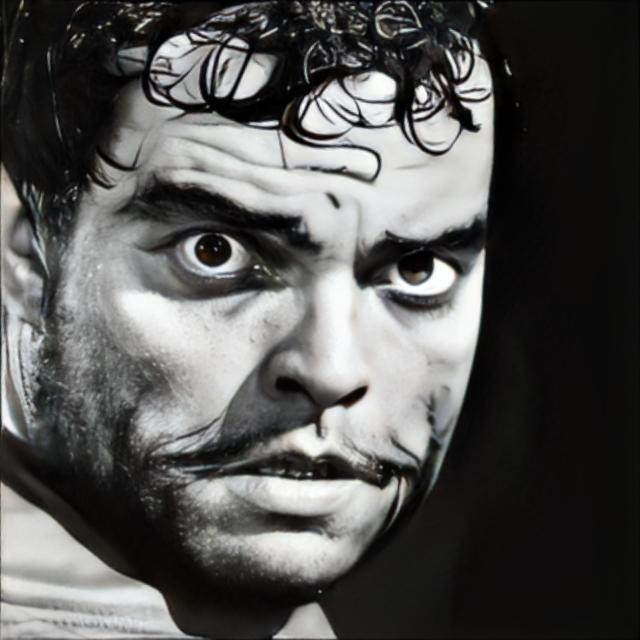fear: (48, 21, 500, 602)
